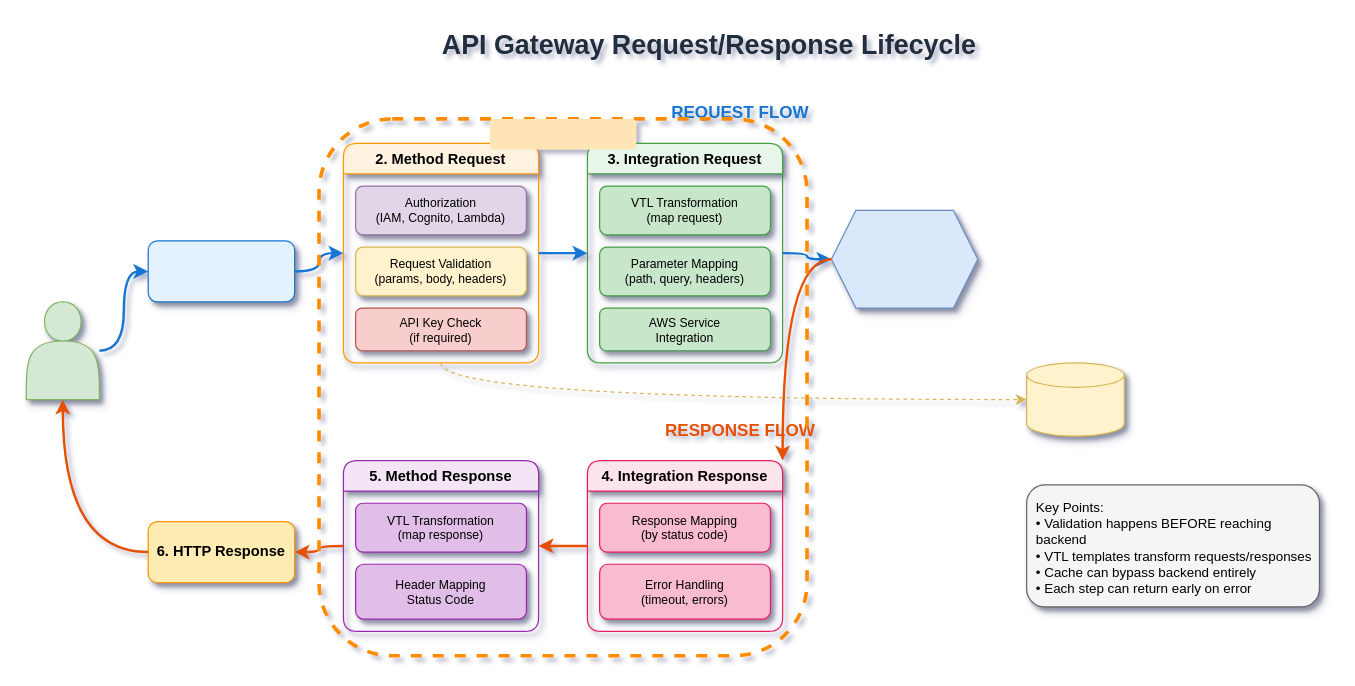
Some shapes in this 1355 by 686 pixel diagram are drawn without their labels. The shapes that lost their labels are listed below. From the top down, each one's centre as x and y in pixels, then its label:
At (562,133): "API Gateway".
At (222,272): "1. HTTP Request".
At (905,260): "Backend (Lambda, HTTP, AWS Service)".
At (63,352): "Client".
At (1076,401): "Cache (Optional)".
